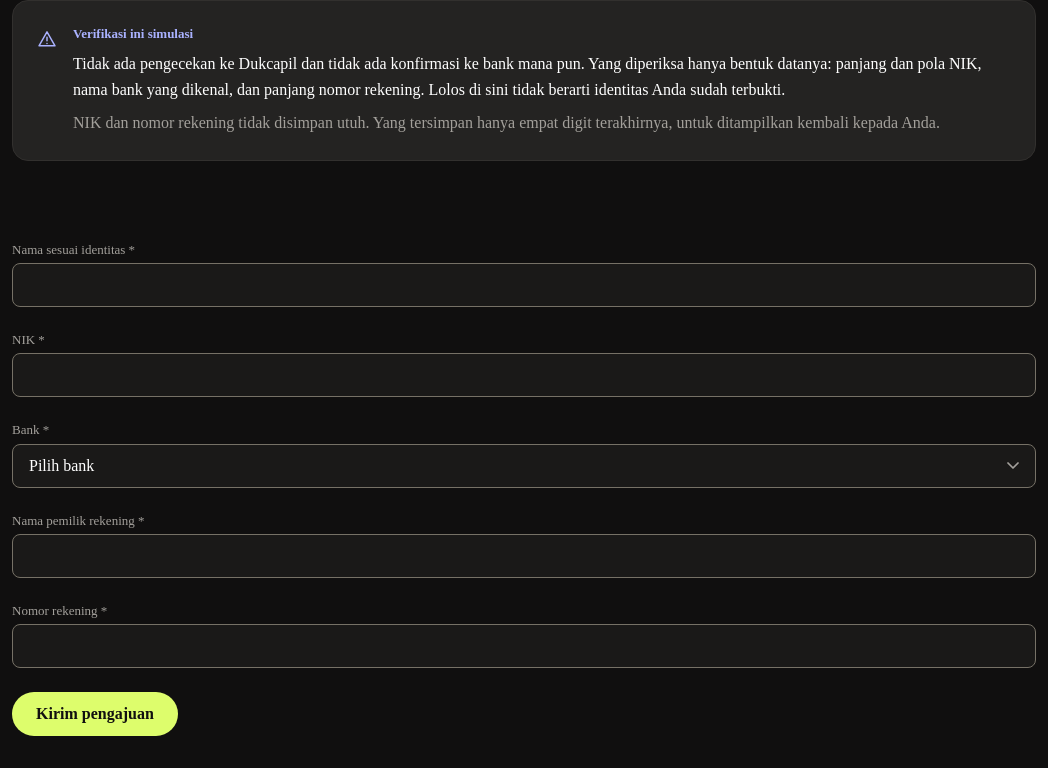
Test: kyc form submission › never submits a bank the user did not pick
The image size is (1048, 768).
Type "Nama Pemilik Akun" into the field labelled "Nama sesuai identitas *" at point(524, 285), box [12,263,1036,307]
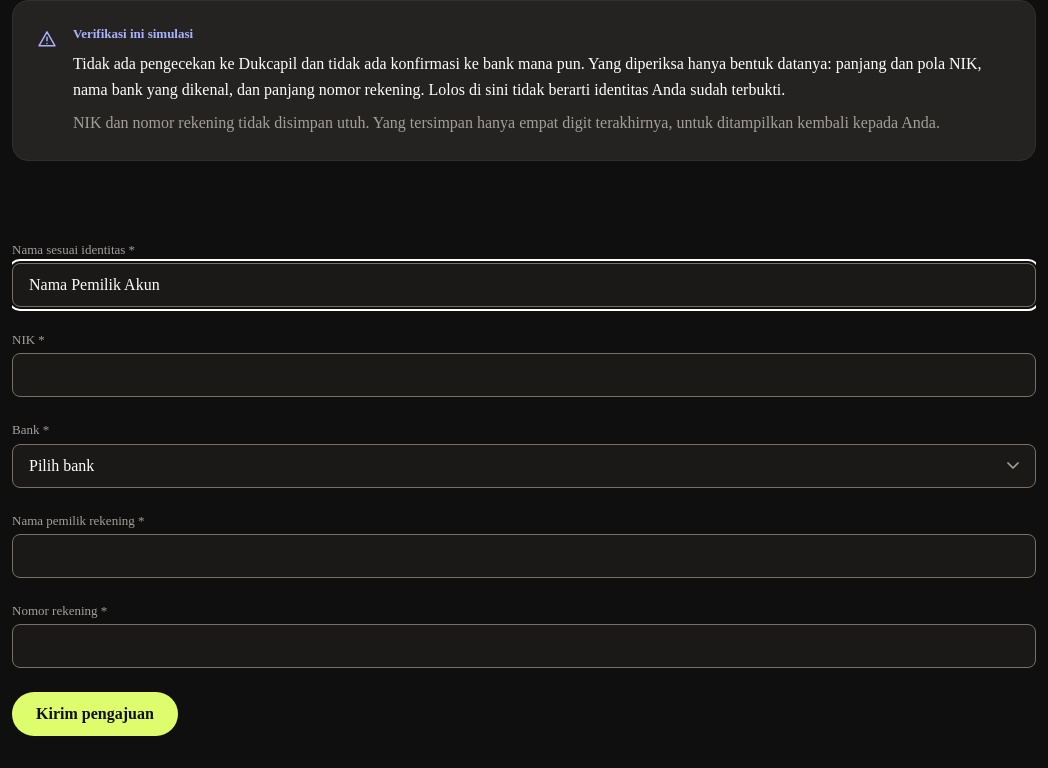
Type "3201234567890123" into the field labelled "NIK *" at point(524, 375), box [12,353,1036,397]
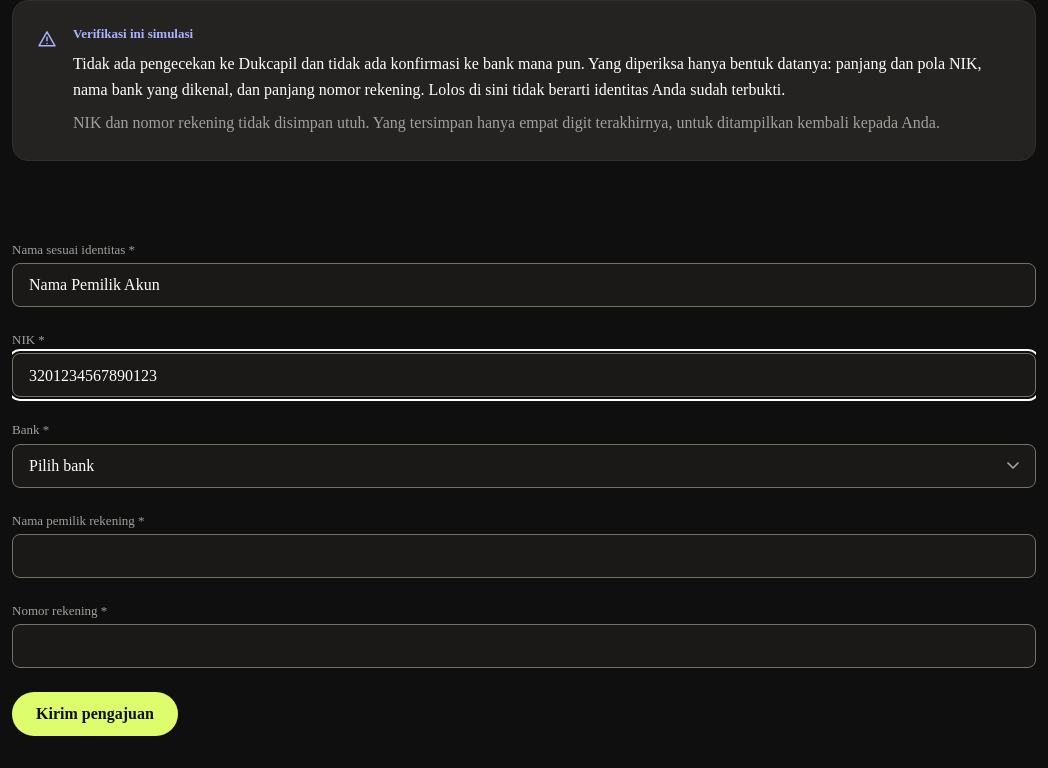
Type "Nama Pemilik Rekening" into the field labelled "Nama pemilik rekening *" at point(524, 556), box [12,534,1036,578]
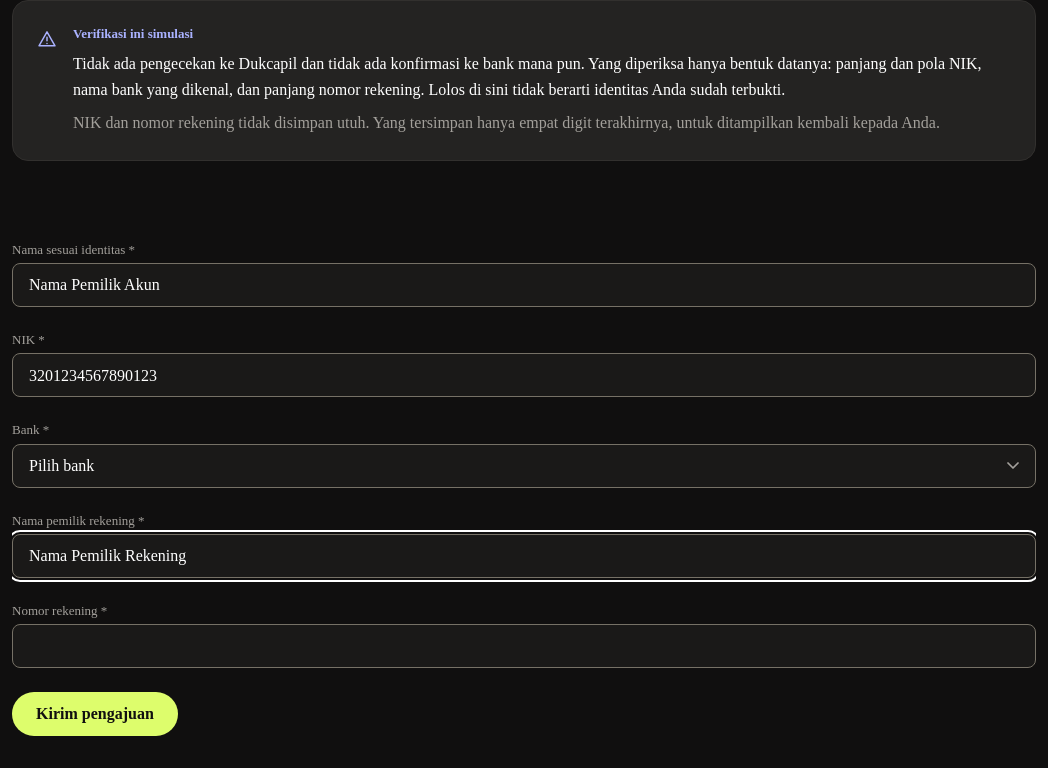
Type "1234567890" into the field labelled "Nomor rekening *" at point(524, 646), box [12,624,1036,668]
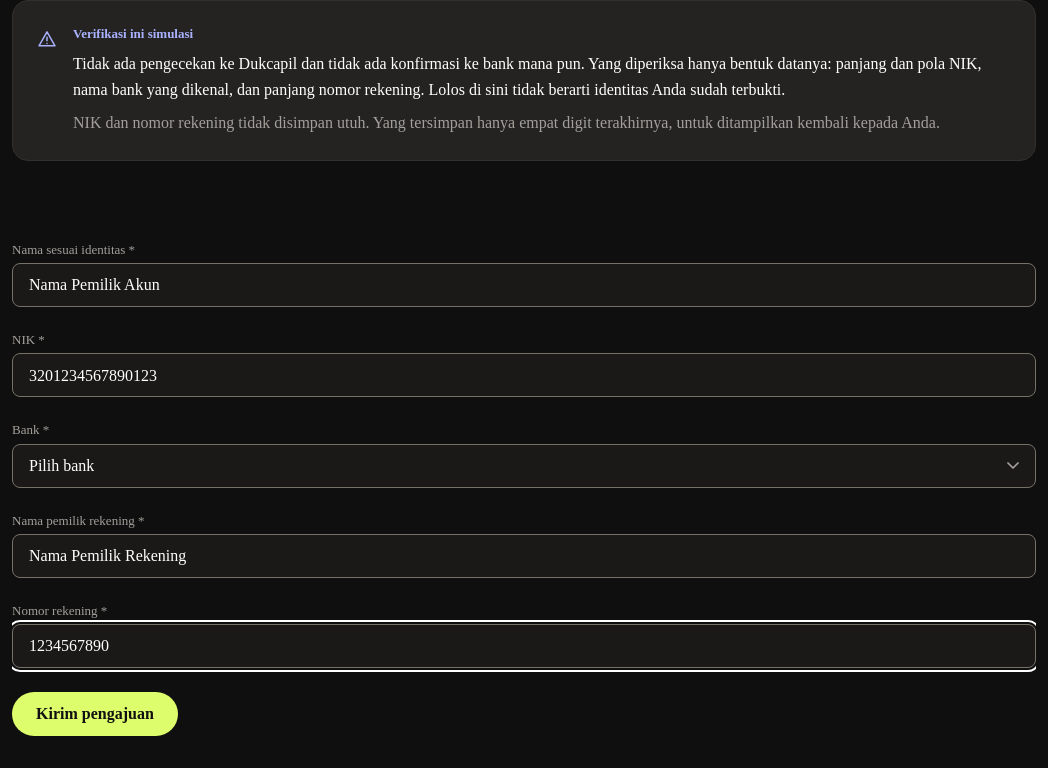
Click the button "Kirim pengajuan" at point(95, 714), box [12,692,178,736]
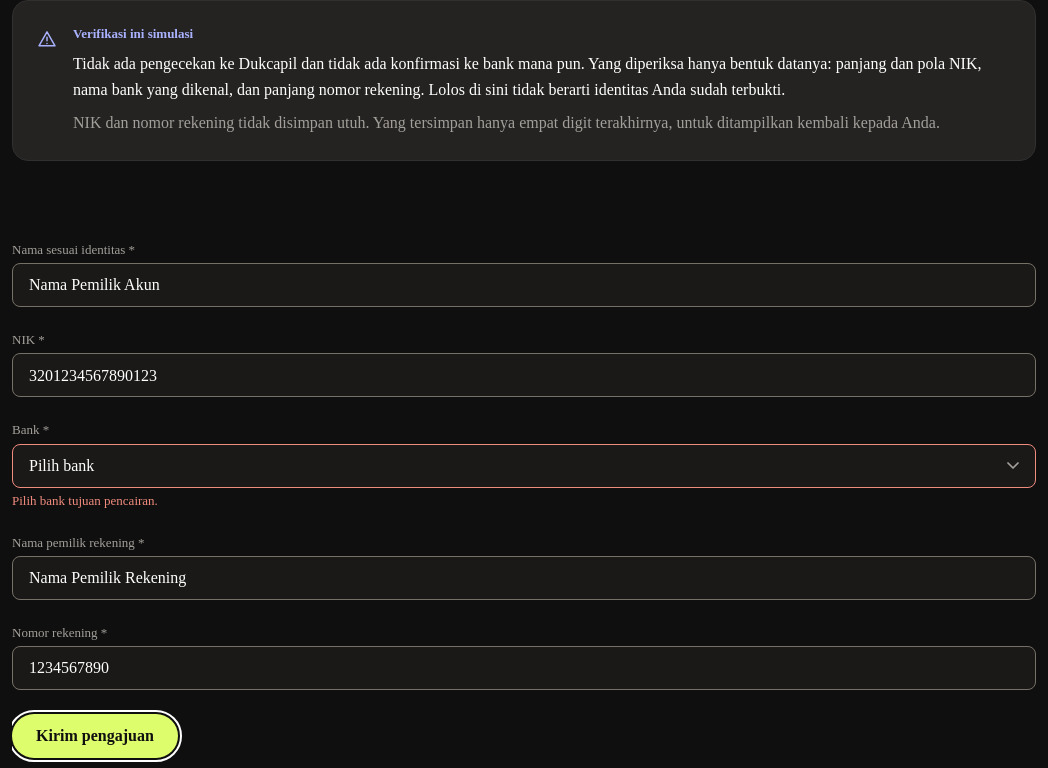
Now the message shows "Pilih bank", box [12,492,158,508]
